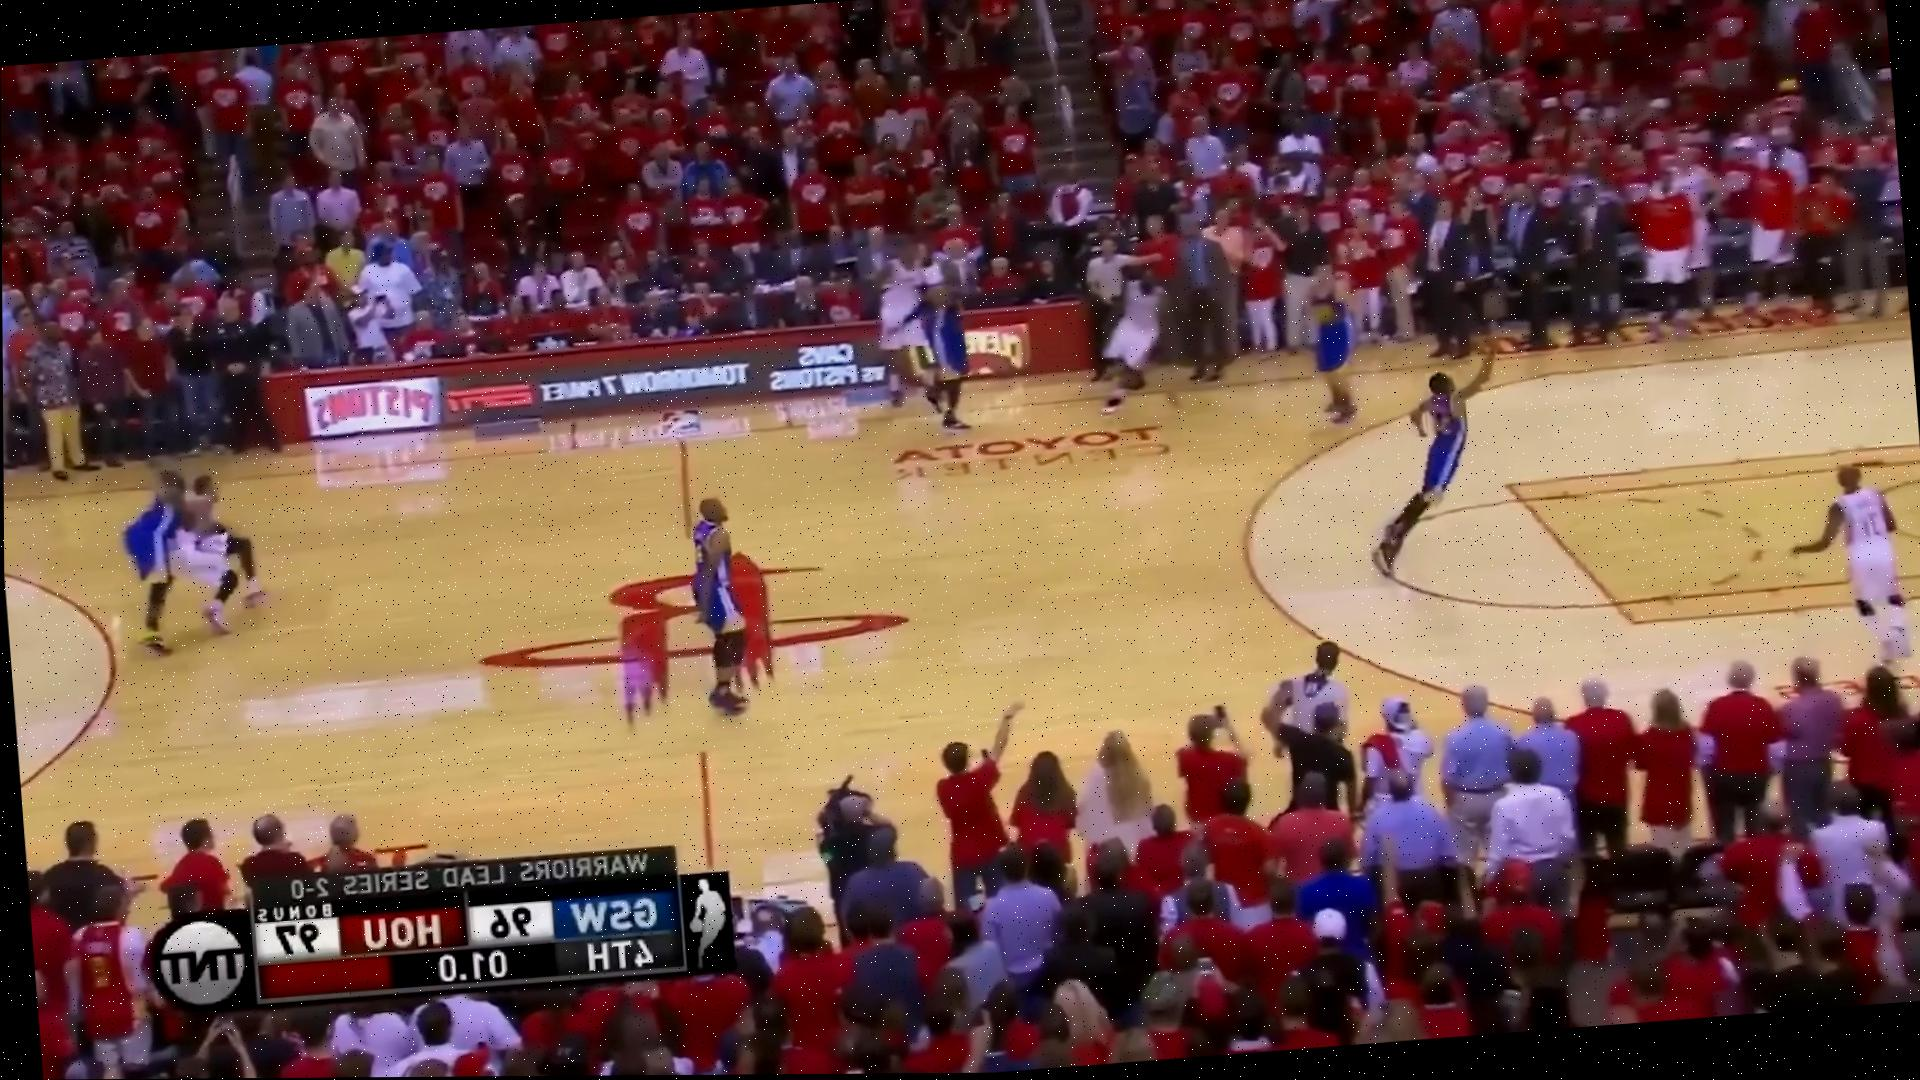foul: (79, 442, 295, 695)
